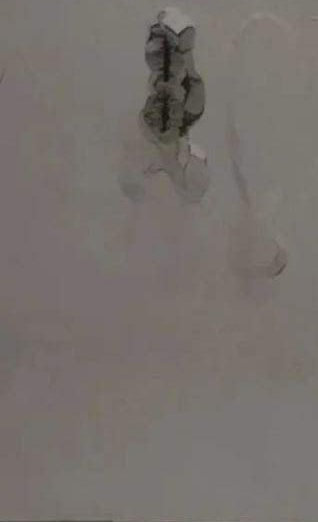Exposed reinforcement: (159, 94, 170, 134), (162, 35, 171, 83), (180, 71, 191, 104)
Spalling: (142, 10, 206, 148)
